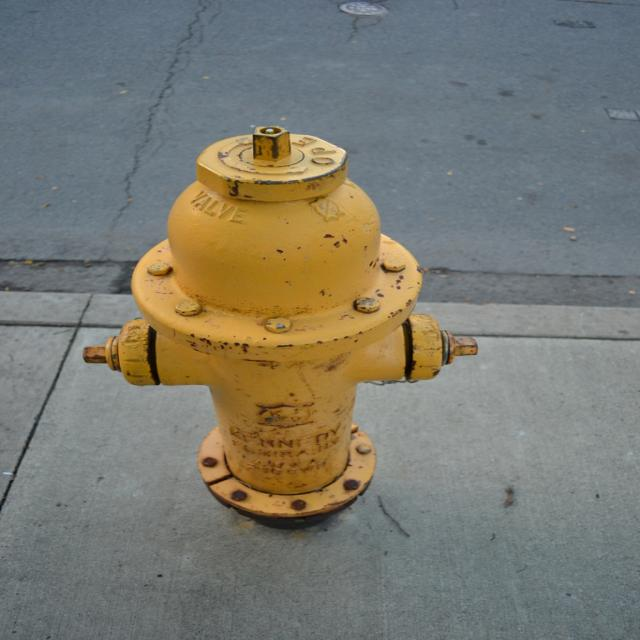fire_hydrant: (84, 128, 478, 518)
